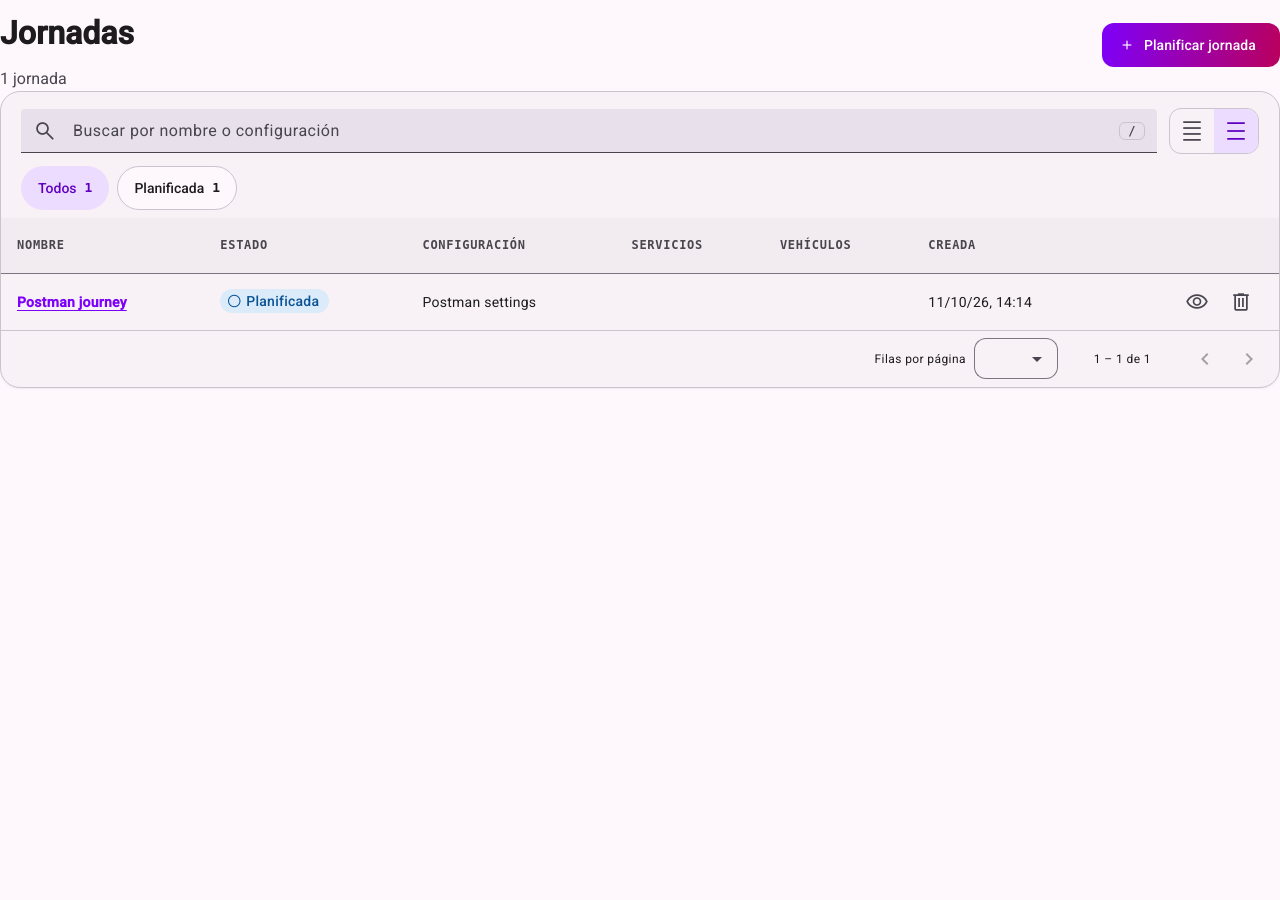
Test case: JourneyListComponent › borrado › si ya no existe (404) avisa y recarga
The image size is (1280, 900).
Click the button named "Eliminar la jornada Postman journey" at (1241, 302), box [1219, 280, 1263, 324]
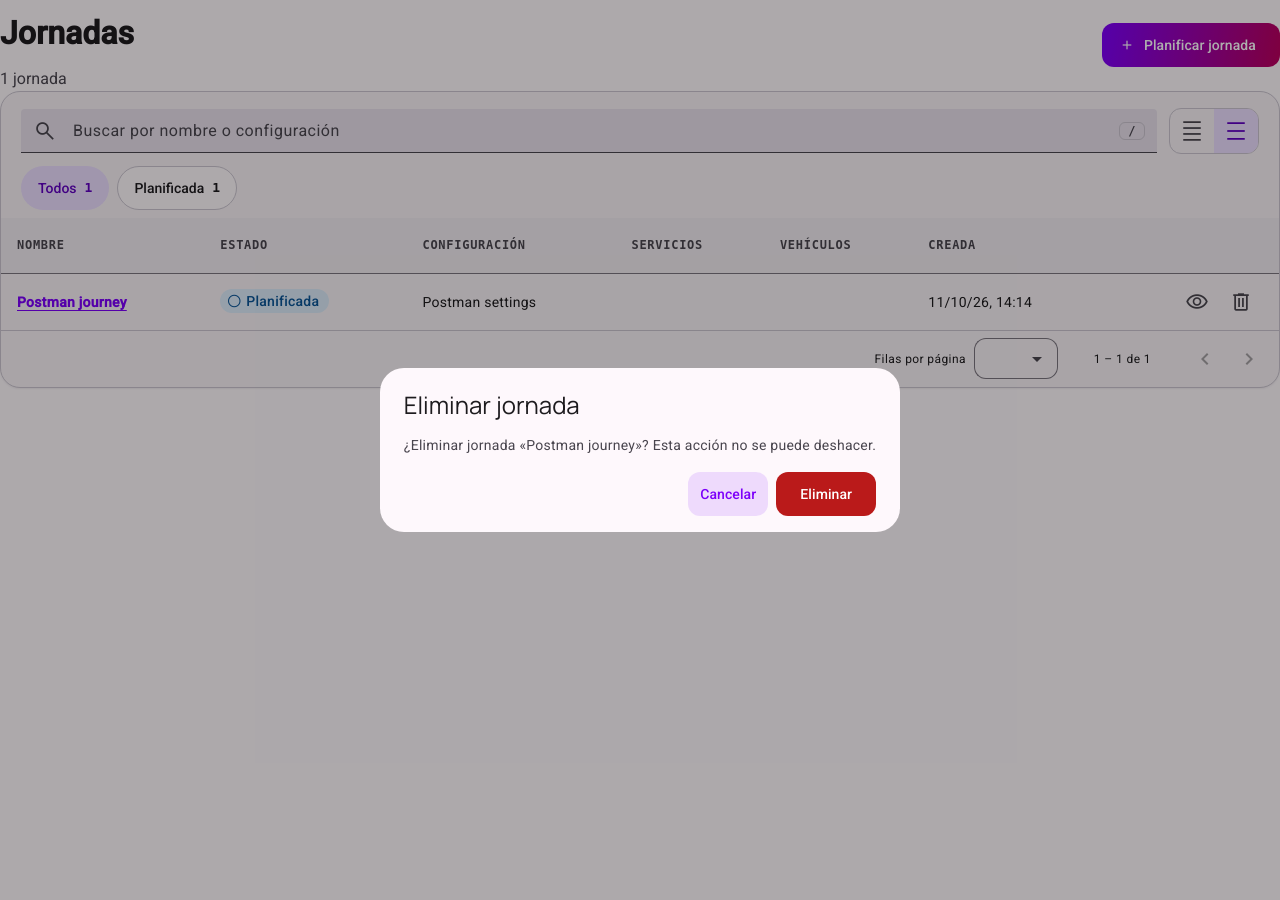
Click the button "Eliminar" at (826, 494), box [776, 472, 876, 516]
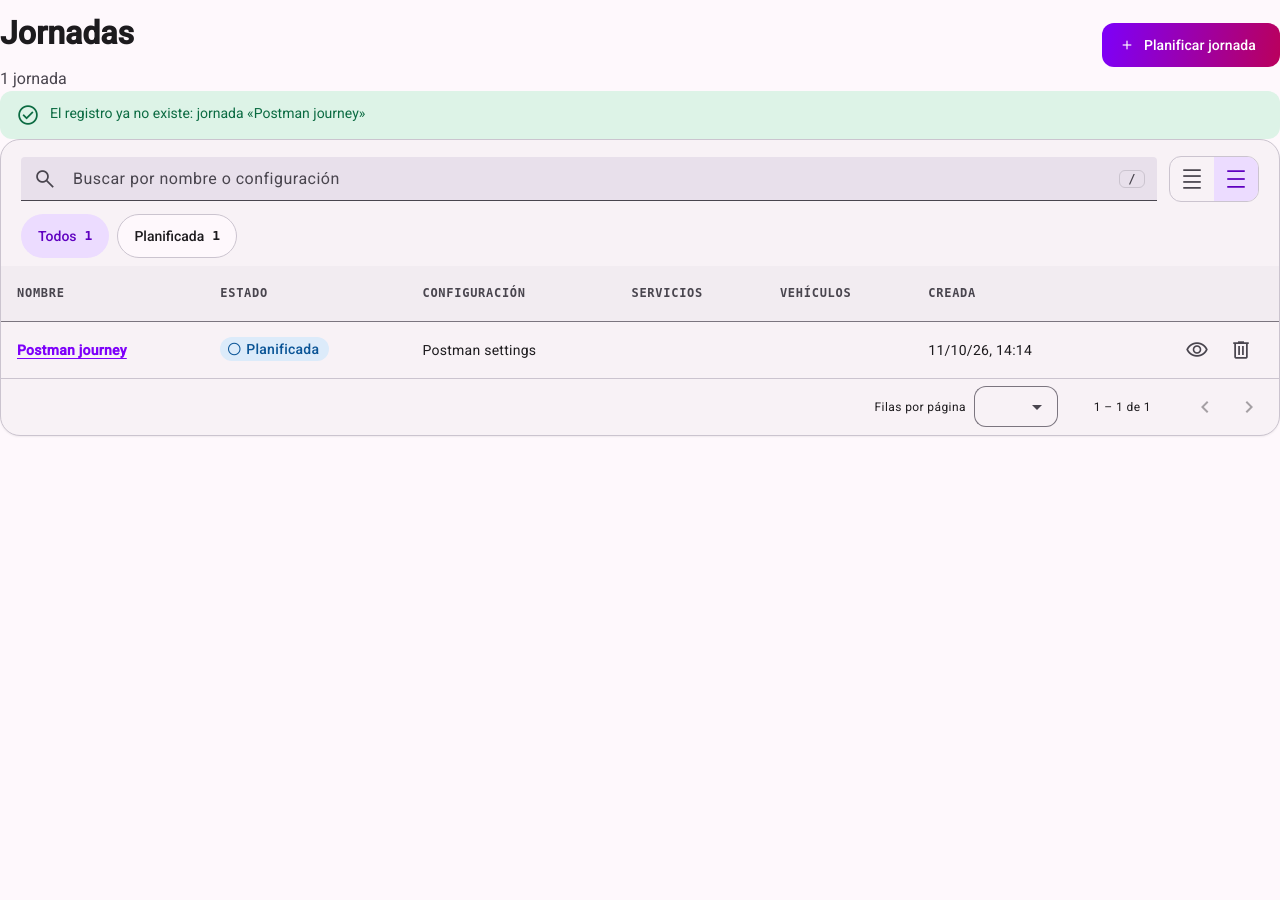
Now the text "El registro ya no existe" is shown, box [50, 105, 365, 121]
